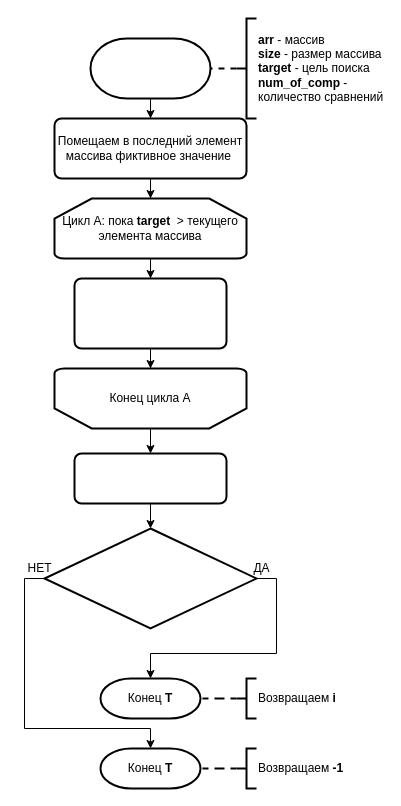
Some shapes in this 401 by 806 pixel diagram are drawn without their labels. Each missing label, with the centre of its shape:
"Если мы элемент массива под индексом i == target" goes at (x=150, y=578).
"Начало T" goes at (x=150, y=68).
"привабляем количество сравнений 2 раза num_of_comp +=2" goes at (x=150, y=478).
"привабляем количество сравнений и текущий индекс num_of_comp ++ i ++" goes at (x=150, y=313).
